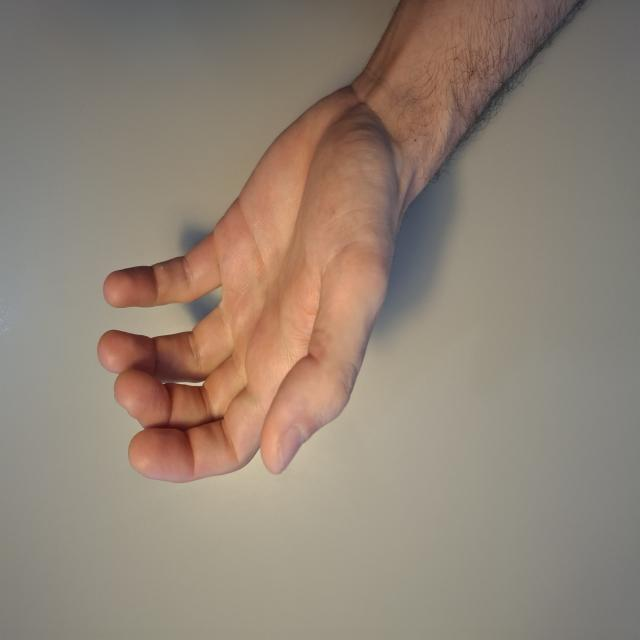glove_off: (95, 74, 420, 488)
